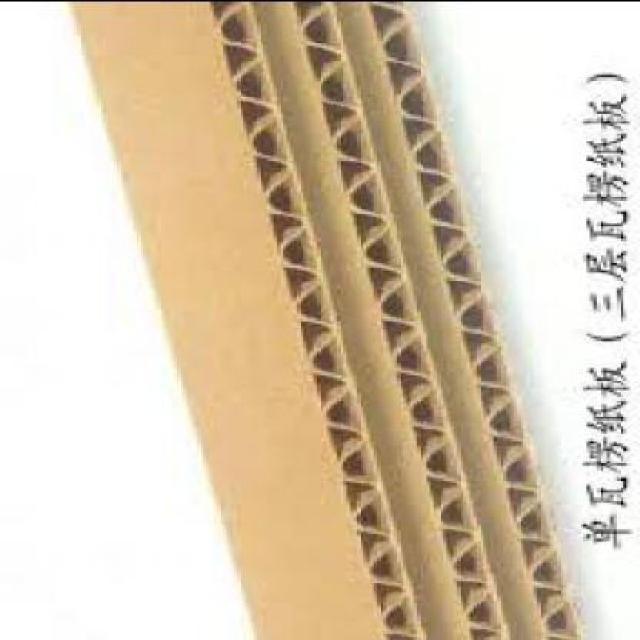cardboard: (63, 1, 583, 638)
